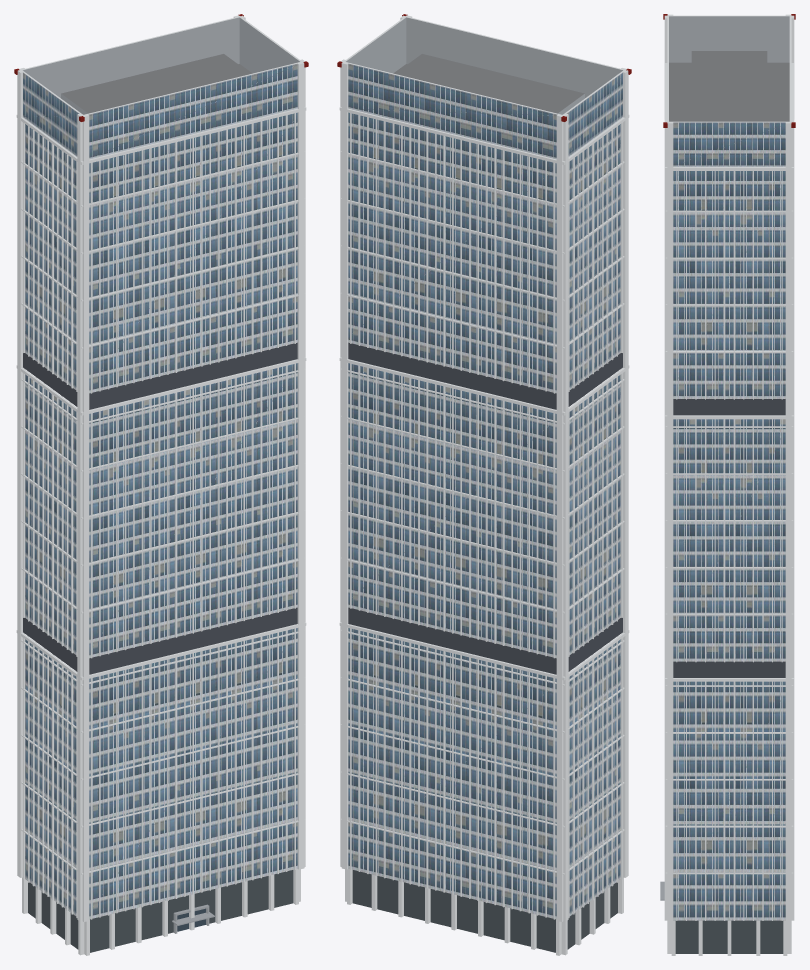
Rendered from world_trade_center_hamamatsucho.glb.
3 renders of one model, left to right at view 1: azimuth 30°, elevation 25°; view 2: azimuth 150°, elevation 25°; view 3: azimuth 270°, elevation 25°, orthographic.
Parts seen in each view (by area): view 1: world_trade_center_hamamatsucho; view 2: world_trade_center_hamamatsucho; view 3: world_trade_center_hamamatsucho.
Part boxes in pixels (x1,y1,x2,y2): world_trade_center_hamamatsucho: (14, 14, 308, 955); world_trade_center_hamamatsucho: (337, 14, 631, 955); world_trade_center_hamamatsucho: (660, 14, 795, 955).
Bounding box in the file's own units: 66.5 × 235 × 34.51.
Materials: 2 (2 with a texture image).
